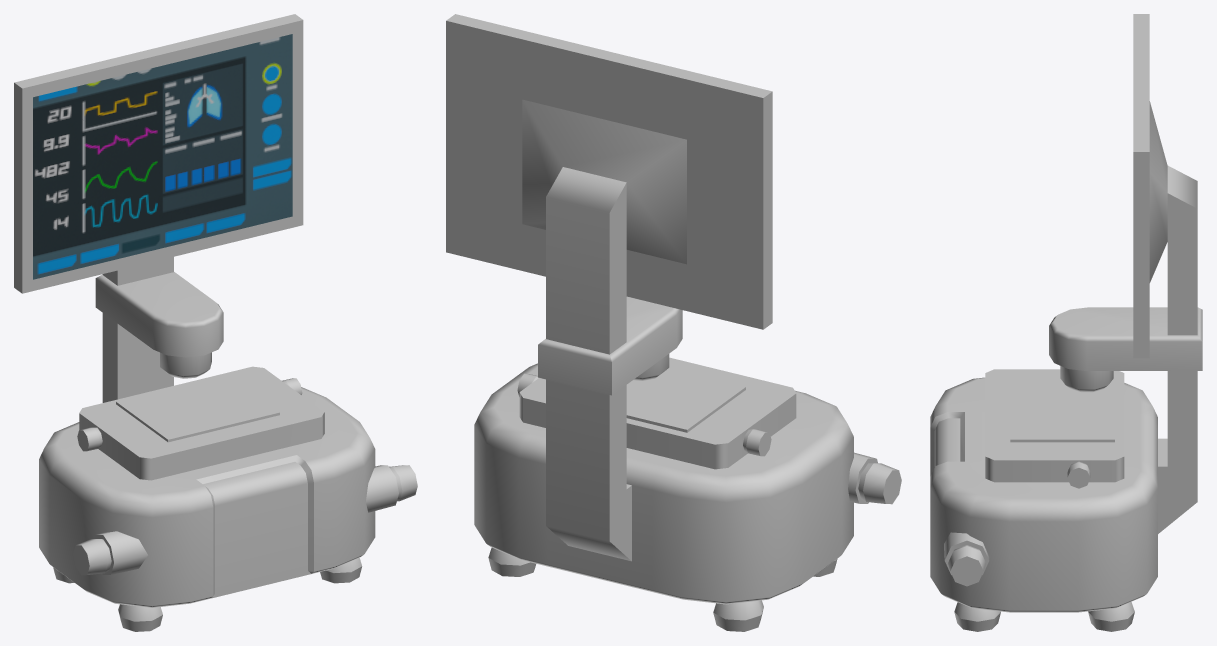
File: Cellular_Analyzer_01.fbx
The picture shows the model from 3 angles, left to right: view 1: azimuth 30°, elevation 25°; view 2: azimuth 150°, elevation 25°; view 3: azimuth 270°, elevation 25°; orthographic projection. The views are drawn at different scales.
Parts seen in each view (by area): view 1: Cellular_Analyzer_01; view 2: Cellular_Analyzer_01; view 3: Cellular_Analyzer_01.
Part boxes in pixels (<box>): Cellular_Analyzer_01: <box>14,14,417,631</box>; Cellular_Analyzer_01: <box>446,14,901,631</box>; Cellular_Analyzer_01: <box>930,14,1202,631</box>.
Bounding box in the file's own units: 50.2 × 35.89 × 71.41.
